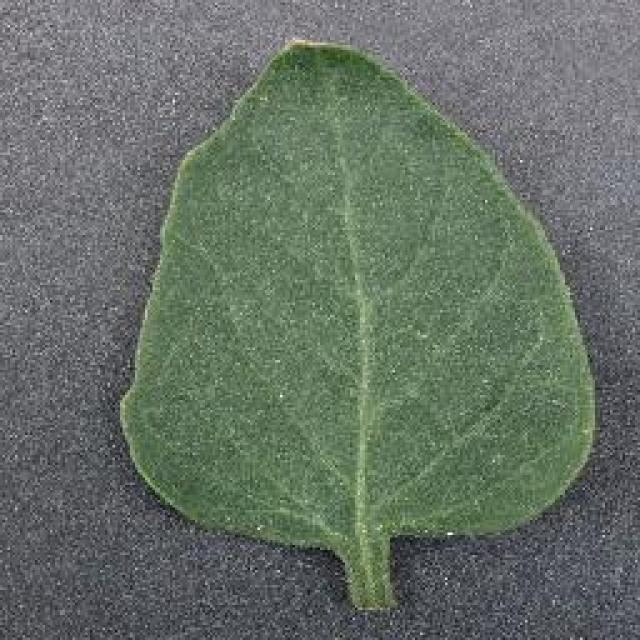Tomato_Healthy: (113, 42, 606, 552)
